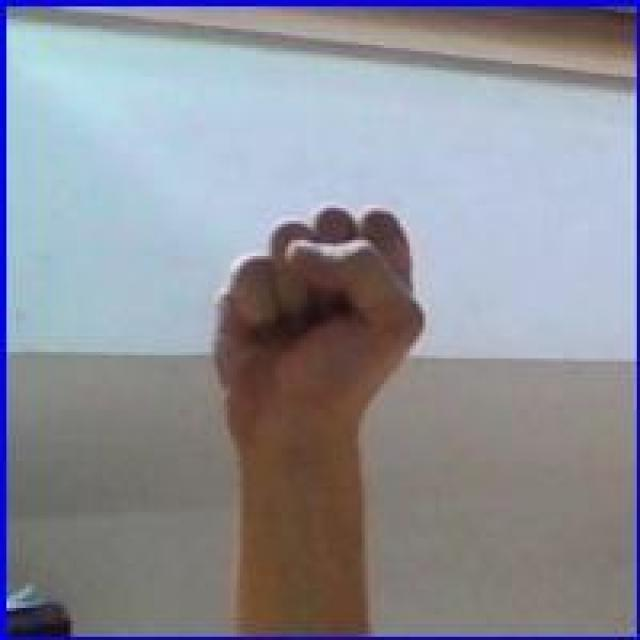S: (204, 200, 430, 443)
